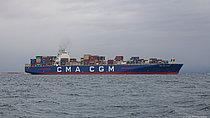Ship: (24, 44, 186, 78)
